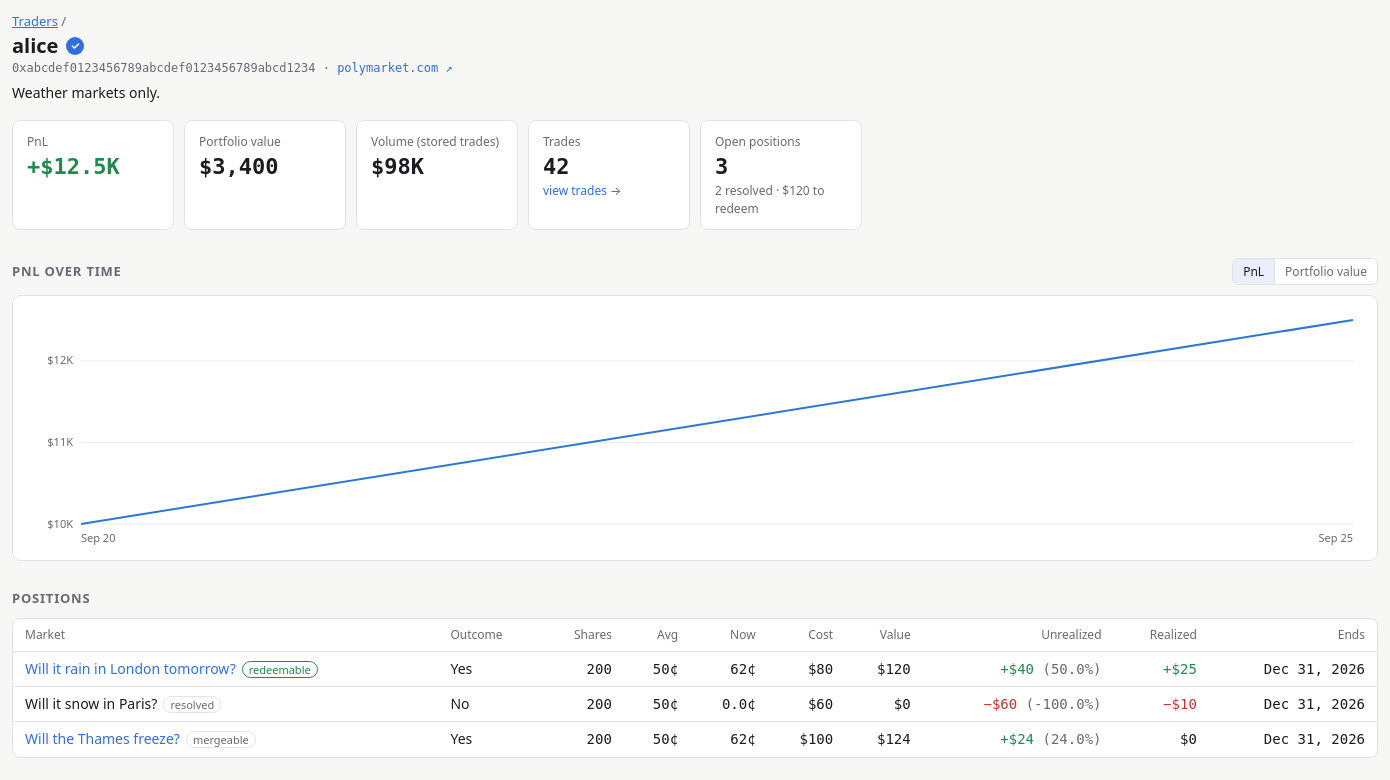
Test: Trader page › switches the chart between PnL and portfolio value
Expected: the heading "alice ✓" is shown, top-left (12, 32), bottom-right (84, 59)
Expected: the heading "PnL over time" is shown, top-left (12, 262), bottom-right (122, 281)
Click the button "Portfolio value".
click(1326, 272)  # box top-left (1274, 259), bottom-right (1377, 284)
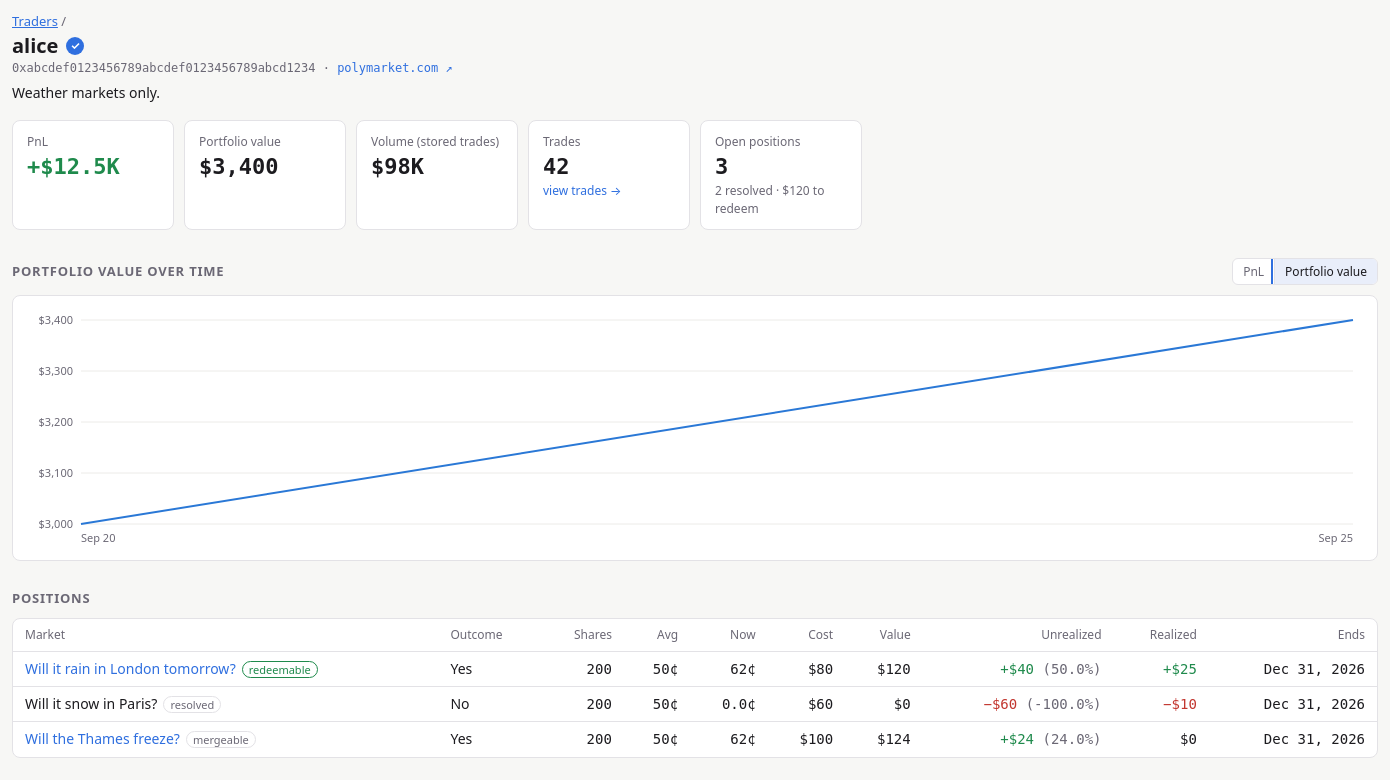
Result: the heading "Portfolio value over time" is shown at top-left (12, 262), bottom-right (224, 281)
Result: the heading "PnL over time" is gone
Result: the picture named "Value" is shown at top-left (25, 308), bottom-right (1365, 548)
